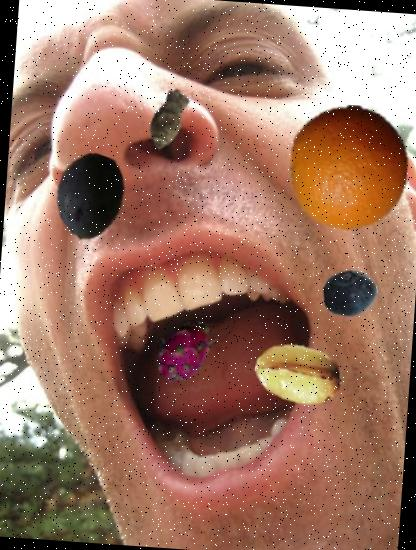Blueberry: (321, 264, 380, 323)
Carambula: (251, 328, 346, 422)
Ginger: (134, 85, 202, 153)
Orange: (282, 100, 416, 234)
Pepper: (304, 125, 364, 184)
Pitahaya: (145, 314, 220, 389)
Plum: (42, 150, 136, 244)
